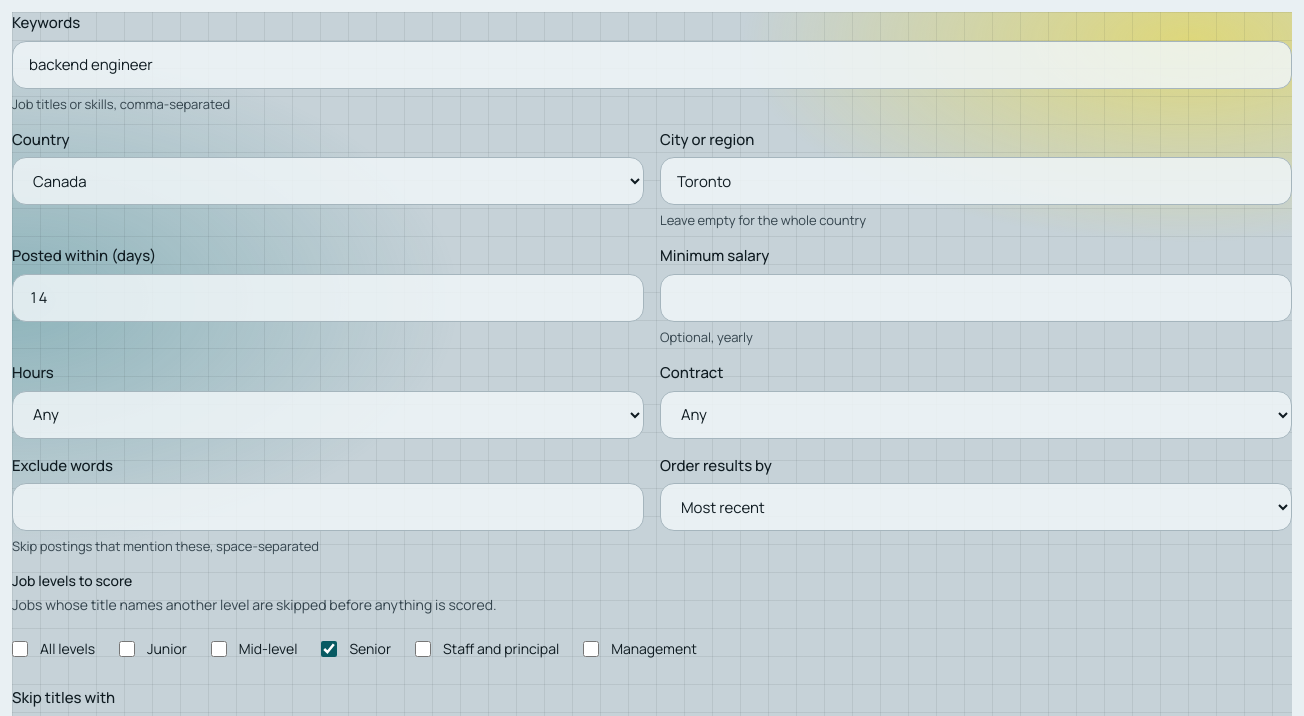
Scenario: SearchPreferencesForm job levels › returns to all levels when All levels is chosen again
The image size is (1304, 716).
Click the checkbox labelled "All levels" at (20, 649), box [12, 641, 28, 657]
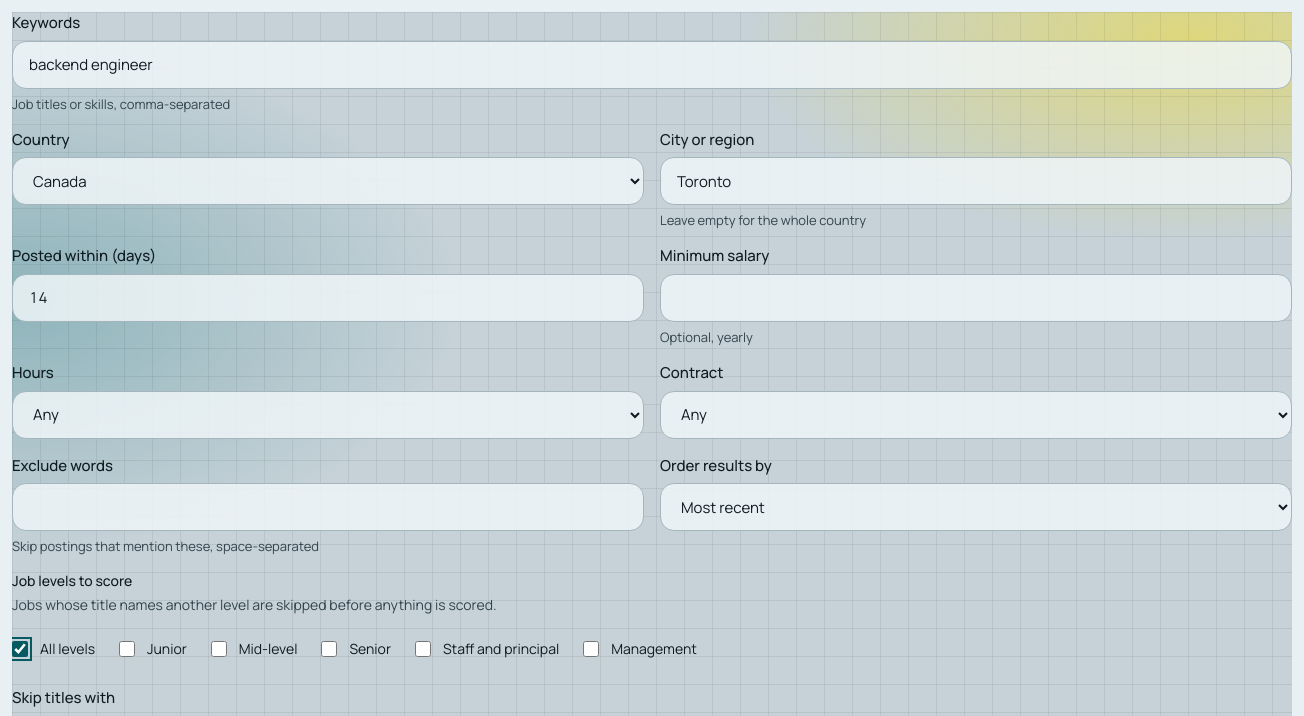
Expected: the checkbox labelled "All levels" is checked, [12, 641, 28, 657]
Expected: the checkbox labelled "Senior" is not checked, [321, 641, 337, 657]
